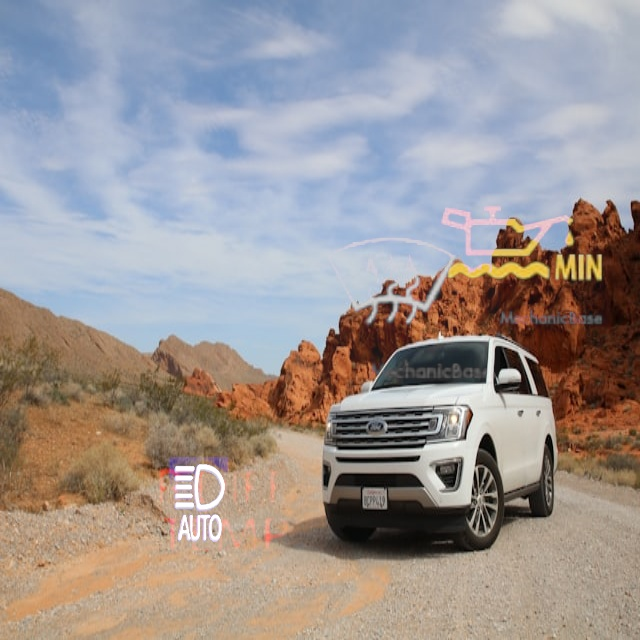symbol: (90, 401, 308, 619), (286, 175, 500, 389), (125, 414, 323, 612), (430, 154, 609, 333)
